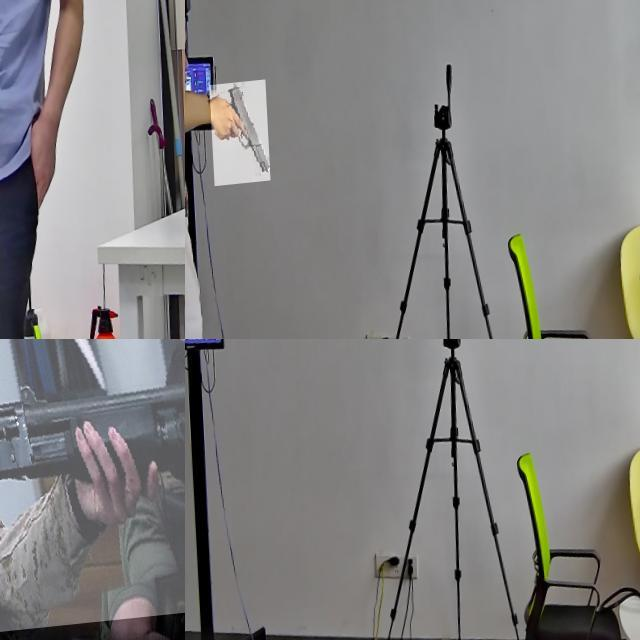gun-knife-thesis - v11 Yolov5 augmented: (0, 339, 185, 640), (207, 82, 267, 188), (0, 0, 46, 38), (185, 339, 209, 388)
